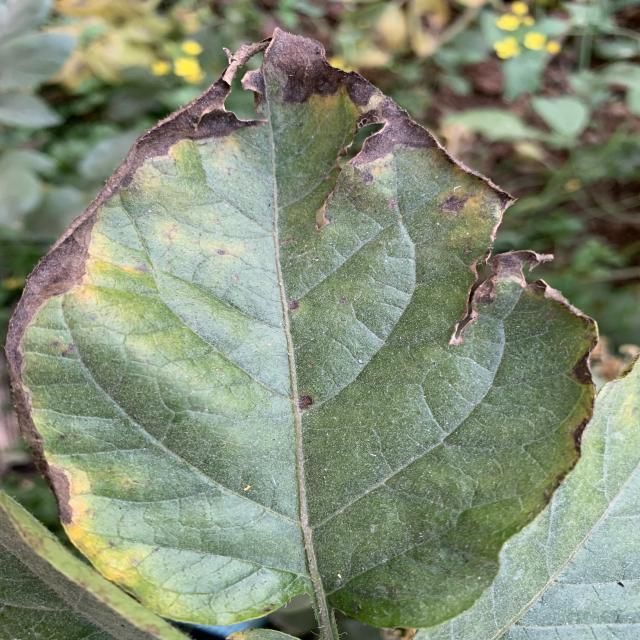lateblight: (112, 30, 410, 180), (7, 170, 132, 459), (340, 98, 512, 212), (450, 250, 553, 345), (38, 459, 97, 538)
